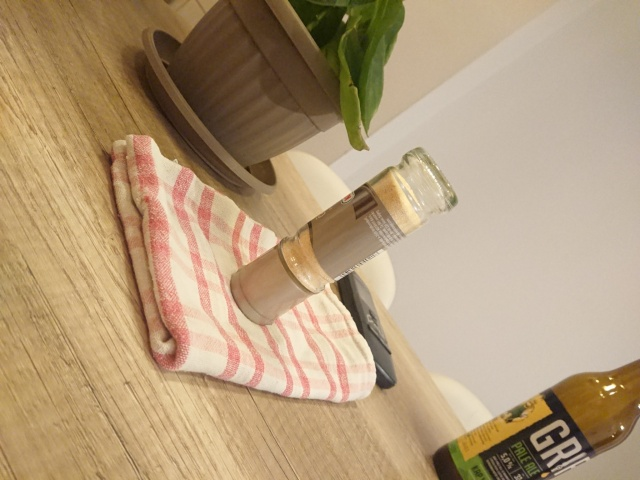Kotanyi Garlic Granules 70g: (228, 144, 461, 328)
